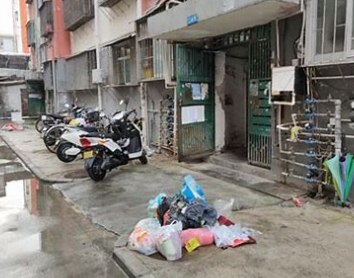garbage: (131, 184, 256, 261), (128, 217, 177, 263), (171, 176, 216, 216), (210, 222, 260, 250), (183, 222, 220, 257)
